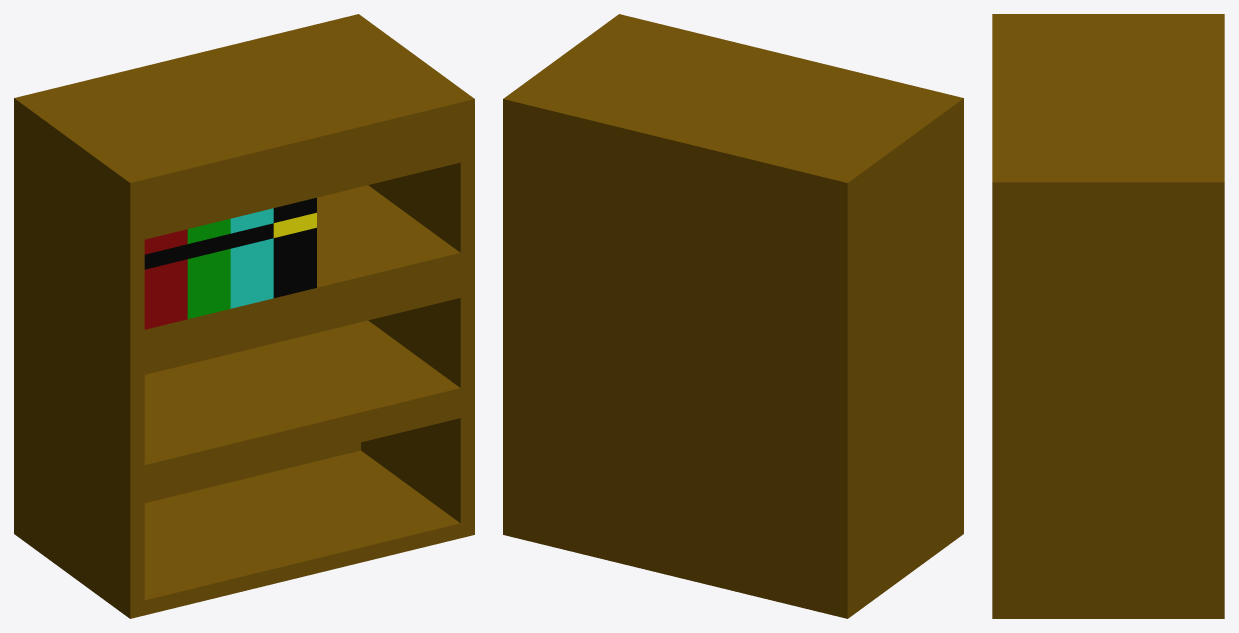
File: book shelf.gltf
3 views of the same model, side by side, from view 1: azimuth 30°, elevation 25°; view 2: azimuth 150°, elevation 25°; view 3: azimuth 270°, elevation 25° (orthographic).
Parts seen in each view (by area): view 1: Layer.1, REDBOOK, GREENBOOK, Bluebook, Black; view 2: Layer.1; view 3: Layer.1.
Boxes of the visible parts, box(x1,y1,x2,y2) form: Layer.1: box(14, 14, 474, 618); REDBOOK: box(144, 229, 187, 329); GREENBOOK: box(187, 218, 230, 319); Bluebook: box(230, 208, 273, 308); Black: box(273, 197, 316, 298); Layer.1: box(503, 14, 963, 618); Layer.1: box(992, 14, 1224, 618).
Size of the model in its own units: 24 by 29 by 14.
Materials: 1 (1 with a texture image).
